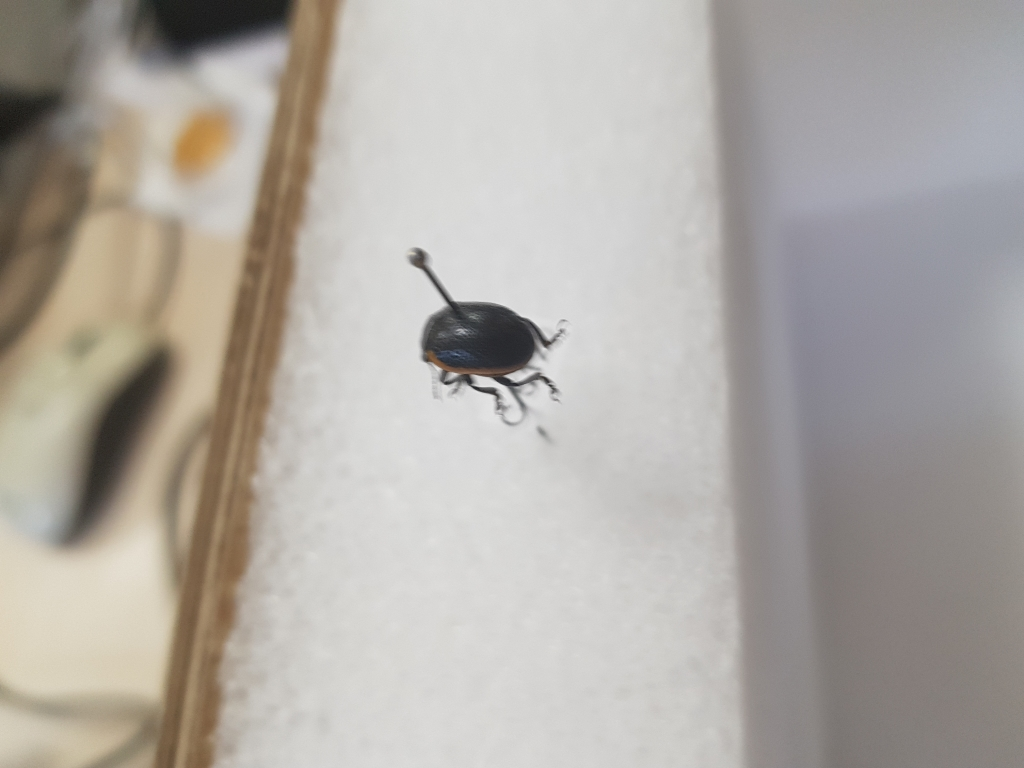Chrysolina_gypsophila: (413, 297, 581, 427)
